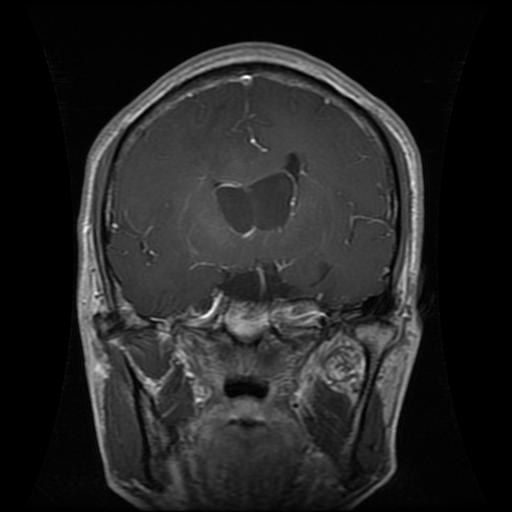Gliomia_tumour: (214, 148, 305, 236)
